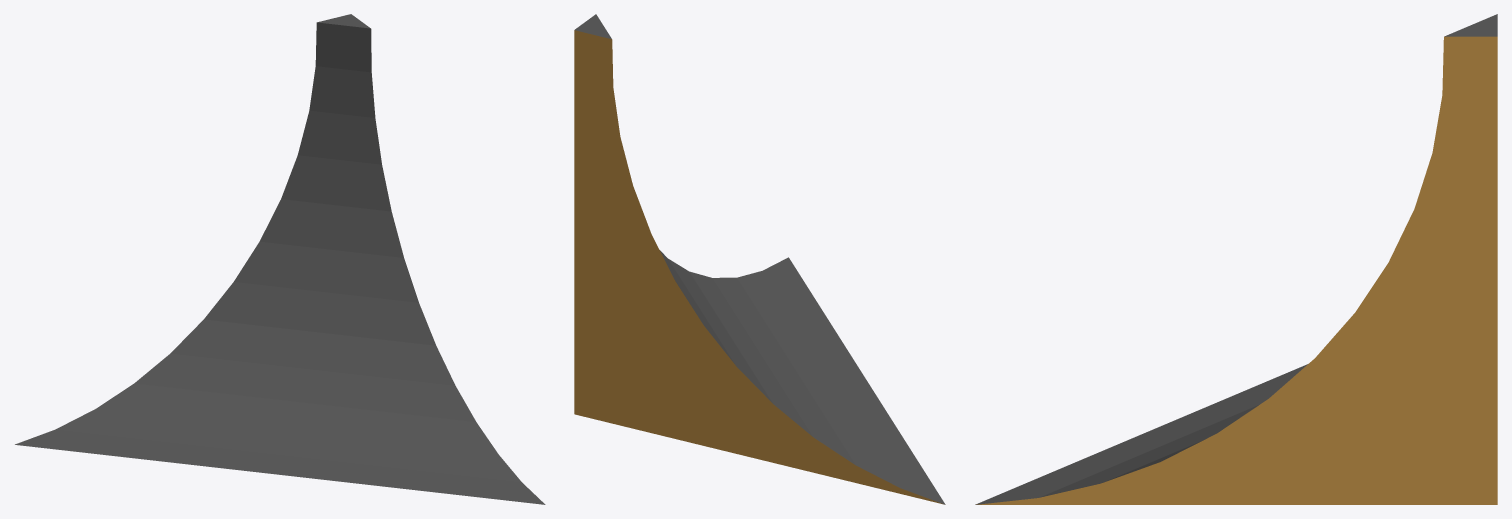
The model's file is Skate_Quarter_Pipe_w_Back_Corner_01.FBX.
The picture shows the model from 3 angles, left to right: view 1: azimuth 30°, elevation 25°; view 2: azimuth 150°, elevation 25°; view 3: azimuth 270°, elevation 25°; orthographic projection. The views are drawn at different scales.
Parts seen in each view (by area): view 1: Skate_Quarter_Pipe_w_Back_Corner_01; view 2: Skate_Quarter_Pipe_w_Back_Corner_01; view 3: Skate_Quarter_Pipe_w_Back_Corner_01.
Boxes of the visible parts, x1,y1,x2,y2 form: Skate_Quarter_Pipe_w_Back_Corner_01: (15, 14, 545, 504); Skate_Quarter_Pipe_w_Back_Corner_01: (574, 14, 945, 504); Skate_Quarter_Pipe_w_Back_Corner_01: (975, 14, 1497, 504).
Size of the model in its own units: 3000 by 2964 by 3000.
